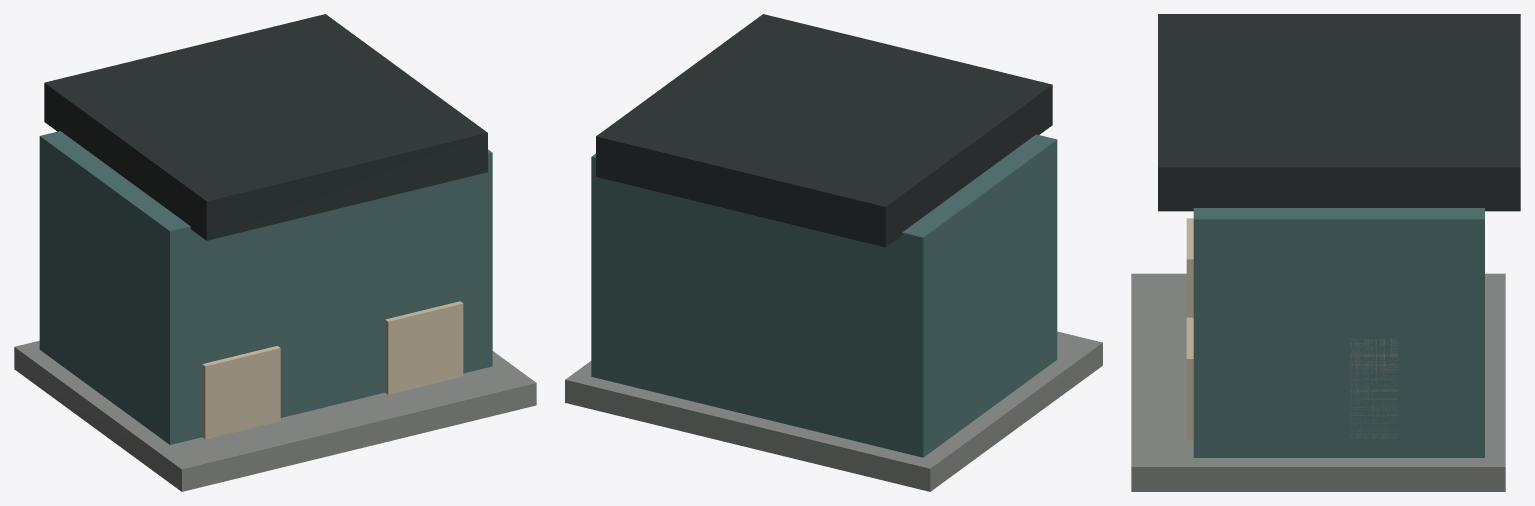
File: Fertilizer-Shed.glb
The picture shows the model from 3 angles, left to right: view 1: azimuth 30°, elevation 25°; view 2: azimuth 150°, elevation 25°; view 3: azimuth 270°, elevation 25°; orthographic projection. The views are drawn at different scales.
Parts seen in each view (by area): view 1: fertilizer-shed-static-fert-teal, fertilizer-shed-static-fert-iron, fertilizer-shed-static-fert-concrete, fertilizer-shed-static-fert-cream; view 2: fertilizer-shed-static-fert-teal, fertilizer-shed-static-fert-iron, fertilizer-shed-static-fert-concrete; view 3: fertilizer-shed-static-fert-teal, fertilizer-shed-static-fert-iron, fertilizer-shed-static-fert-concrete, fertilizer-shed-static-fert-galv, fertilizer-shed-static-fert-cream.
Part boxes in pixels (x1=…): fertilizer-shed-static-fert-teal: x1=39, y1=131, x2=492, y2=444; fertilizer-shed-static-fert-iron: x1=44, y1=14, x2=487, y2=240; fertilizer-shed-static-fert-concrete: x1=14, y1=340, x2=536, y2=491; fertilizer-shed-static-fert-cream: x1=202, y1=301, x2=463, y2=439; fertilizer-shed-static-fert-teal: x1=591, y1=134, x2=1057, y2=457; fertilizer-shed-static-fert-iron: x1=596, y1=14, x2=1052, y2=247; fertilizer-shed-static-fert-concrete: x1=565, y1=331, x2=1102, y2=491; fertilizer-shed-static-fert-teal: x1=1193, y1=208, x2=1484, y2=457; fertilizer-shed-static-fert-iron: x1=1158, y1=14, x2=1520, y2=211; fertilizer-shed-static-fert-concrete: x1=1131, y1=273, x2=1505, y2=491; fertilizer-shed-static-fert-galv: x1=1349, y1=338, x2=1398, y2=438; fertilizer-shed-static-fert-cream: x1=1186, y1=218, x2=1193, y2=440.
Size of the model in its own units: 3.3 by 2.42 by 2.81.
